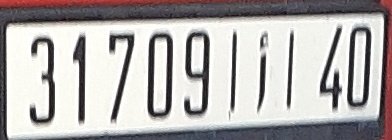0: (146, 33, 175, 120), (345, 24, 370, 111)
1: (67, 32, 89, 122)
3: (27, 35, 57, 126)
4: (318, 24, 347, 113)
7: (105, 31, 136, 122)
9: (182, 31, 211, 117)
a: (251, 27, 272, 114)
